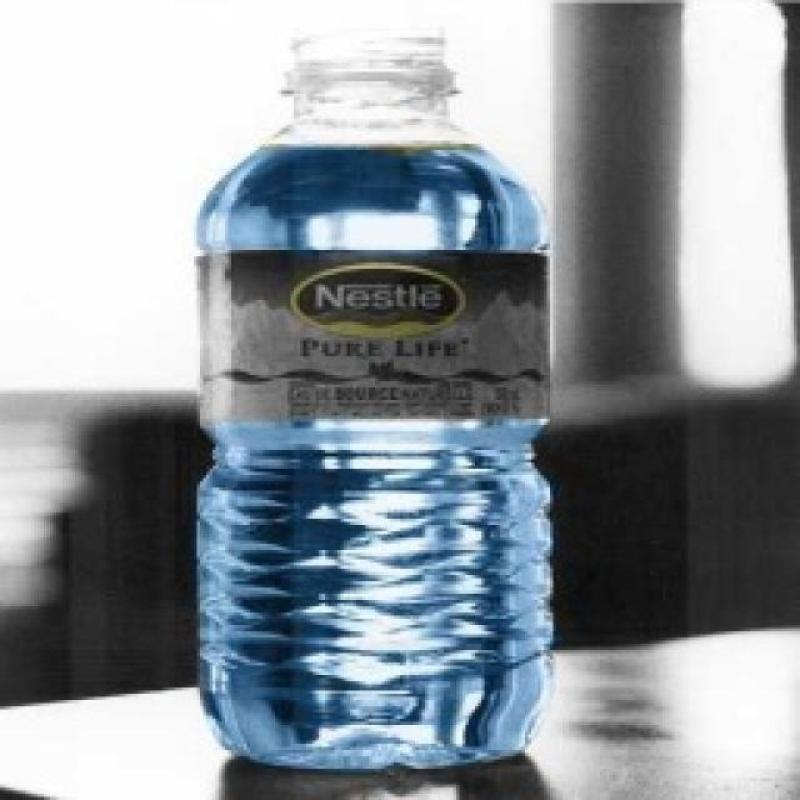botella: (202, 30, 546, 772)
